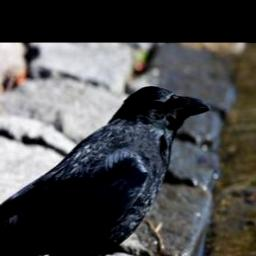Crow: (0, 84, 216, 256)
